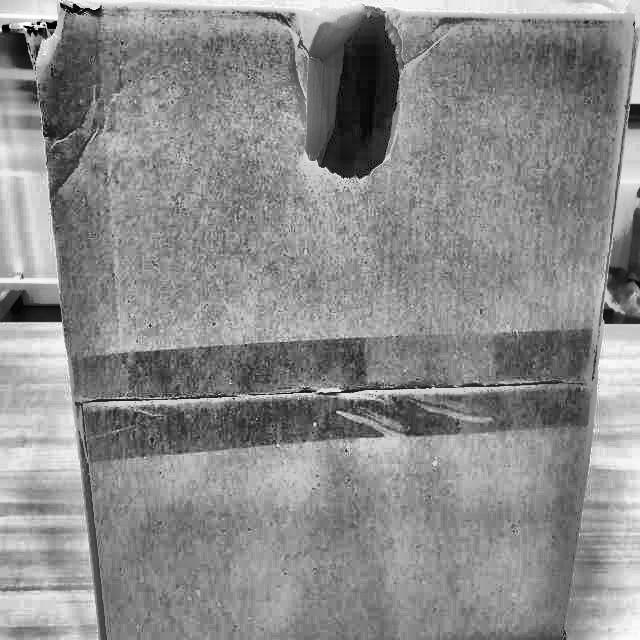box: (23, 2, 639, 639)
hole: (294, 0, 412, 180)
